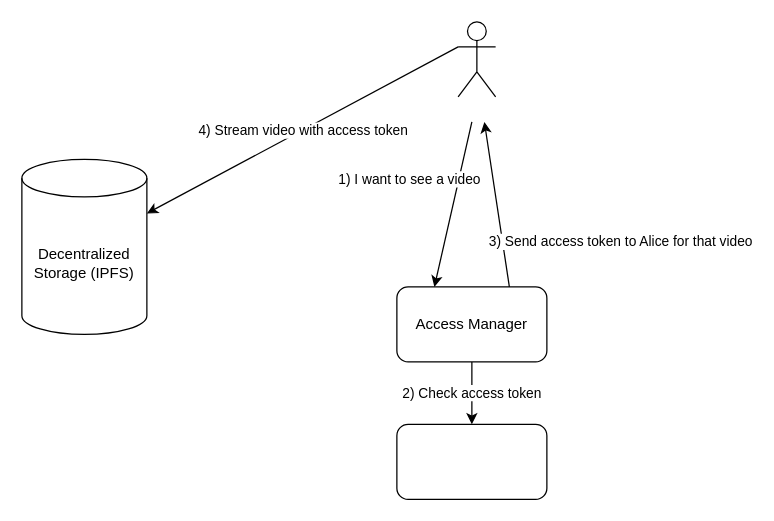
This 774x521 diagram has some shape labels left out. Here are the shapes that lost their labels. From the top down, the box of each, then its label:
(457, 21, 496, 97): Alice
(396, 423, 547, 499): Snip721
